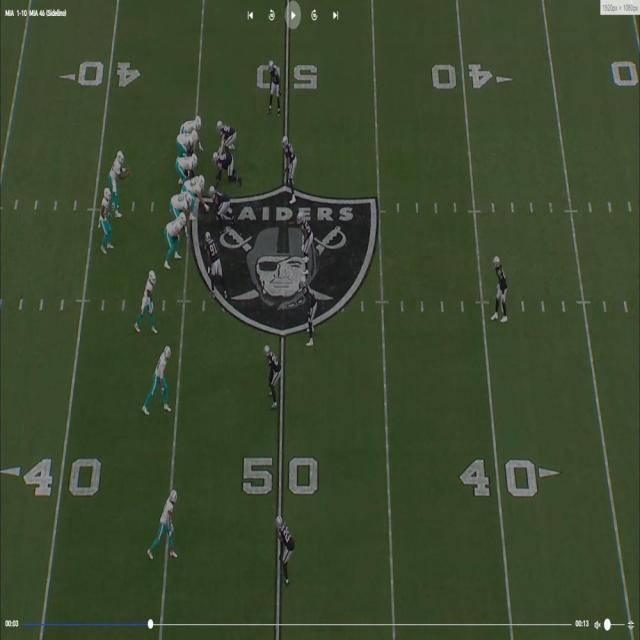center: (190, 173, 207, 207)
db: (276, 516, 296, 580), (266, 346, 284, 404), (494, 252, 505, 329), (266, 59, 283, 105)
lb: (303, 276, 317, 344), (280, 131, 296, 184), (299, 211, 313, 268)
qb: (110, 150, 124, 198)
skill: (153, 487, 179, 555), (150, 344, 170, 406), (142, 267, 159, 331), (100, 188, 111, 254), (178, 111, 204, 132)
